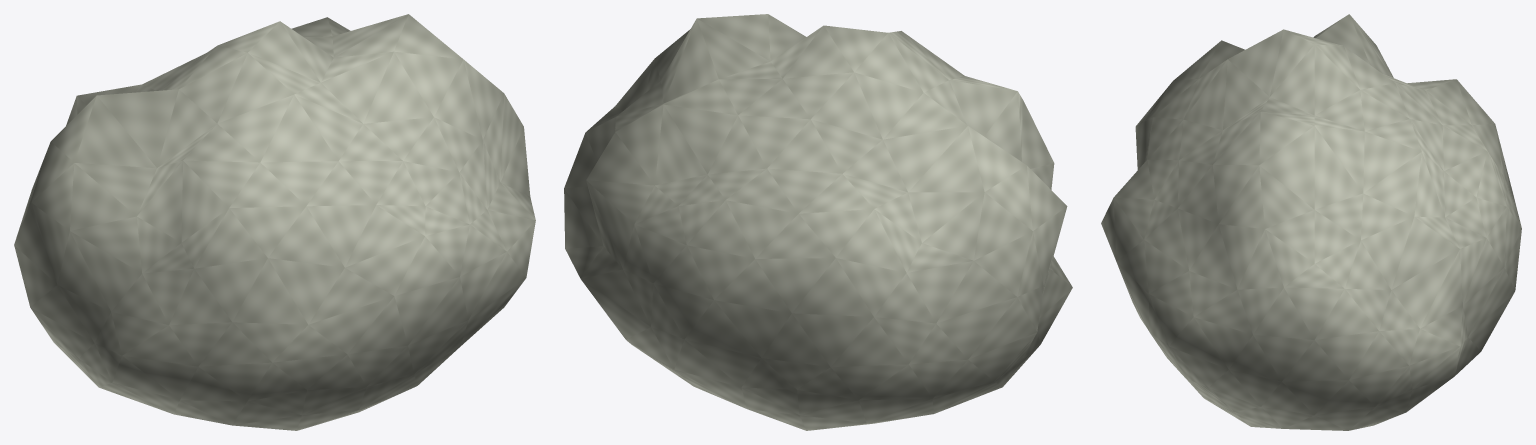
File: coastal_boulder_a.glb
The picture shows the model from 3 angles, left to right: view 1: azimuth 30°, elevation 25°; view 2: azimuth 150°, elevation 25°; view 3: azimuth 270°, elevation 25°; orthographic projection. The views are drawn at different scales.
Parts seen in each view (by area): view 1: coastal_boulder_a_Rock; view 2: coastal_boulder_a_Rock; view 3: coastal_boulder_a_Rock.
Part boxes in pixels (x1,y1,x2,y2): coastal_boulder_a_Rock: (14,14,535,430); coastal_boulder_a_Rock: (564,14,1072,430); coastal_boulder_a_Rock: (1101,14,1521,430).
Size of the model in its own units: 2.67 by 2.01 by 2.24.
Materials: 1 (1 with a texture image).
